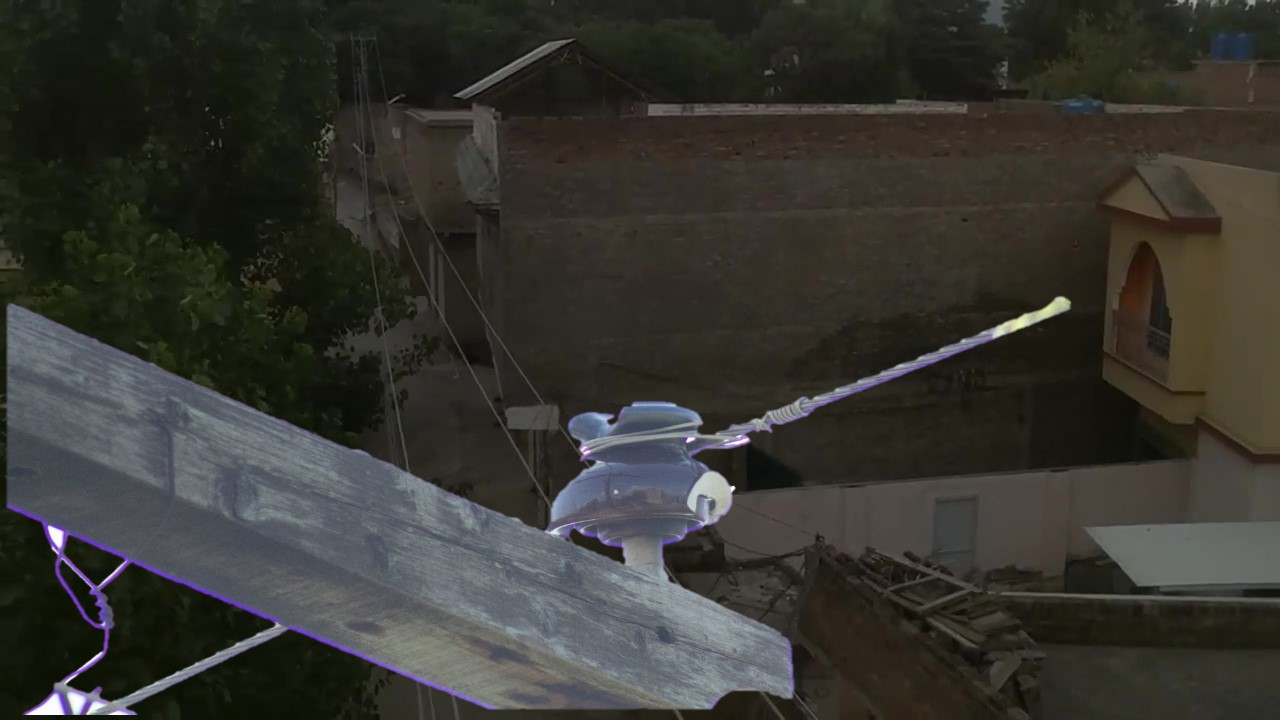defect_pin: (544, 392, 744, 555)
